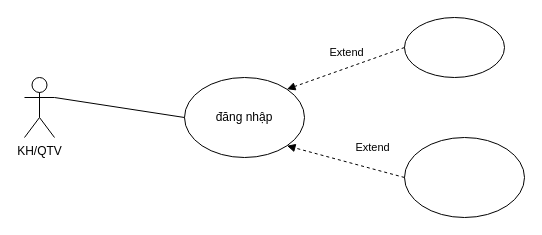
The diagram is 542 pixels wide and 235 high, and some of its shapes have lost their labels. Each missing label, with the centre of its shape:
"Quên mật khẩu" belongs at point 464,177.
"đăng ký" belongs at point 454,47.
